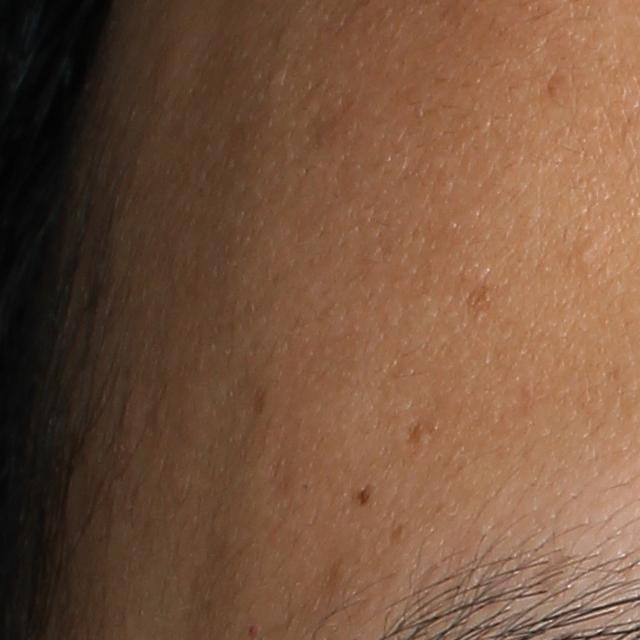comedo: (572, 239, 599, 269)
nevus: (355, 483, 377, 508)
